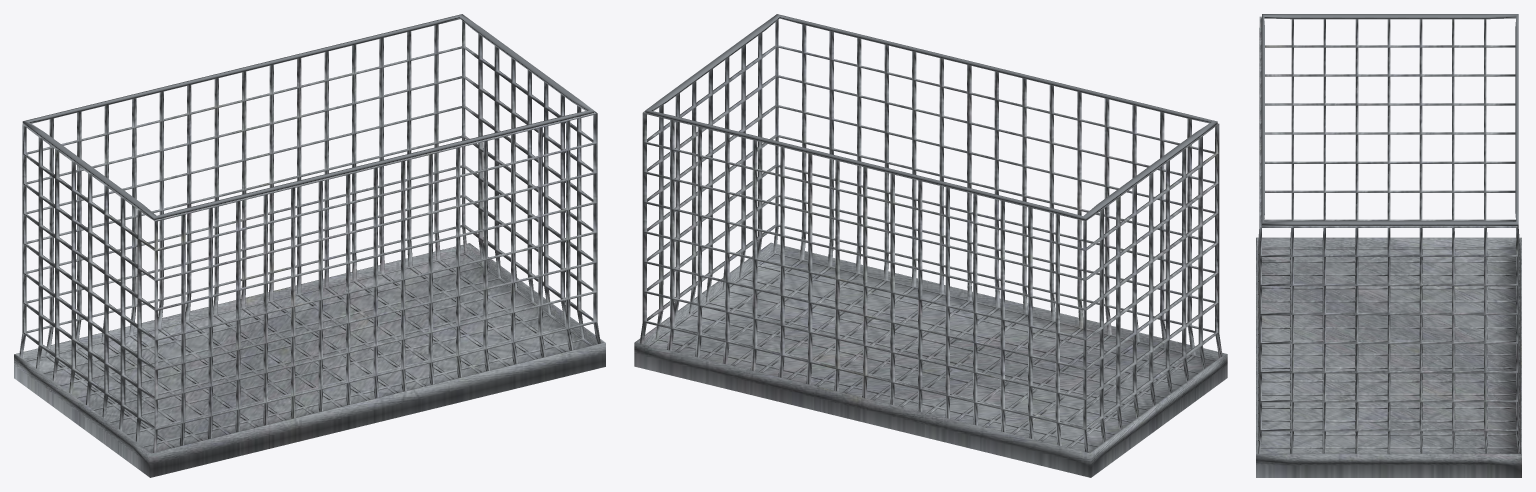
File: metalcage.glb
The picture shows the model from 3 angles, left to right: view 1: azimuth 30°, elevation 25°; view 2: azimuth 150°, elevation 25°; view 3: azimuth 270°, elevation 25°; orthographic projection. The views are drawn at different scales.
Parts seen in each view (by area): view 1: Cube.008; view 2: Cube.008; view 3: Cube.008.
Part boxes in pixels (box(x1,y1,x2,y2)): Cube.008: box(14, 14, 605, 477); Cube.008: box(634, 14, 1227, 477); Cube.008: box(1256, 14, 1521, 477).
Size of the model in its own units: 4 by 2.15 by 2.07.
1 material, 1 textured.
